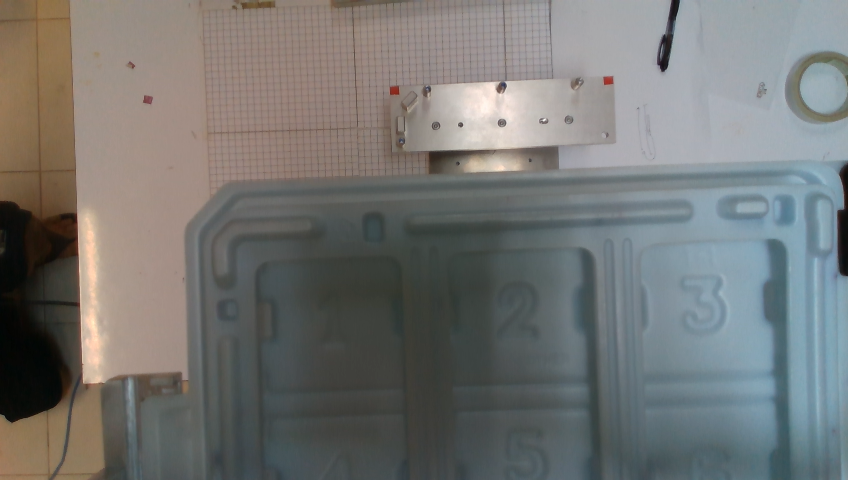red: (390, 86, 399, 95), (604, 76, 613, 85)
